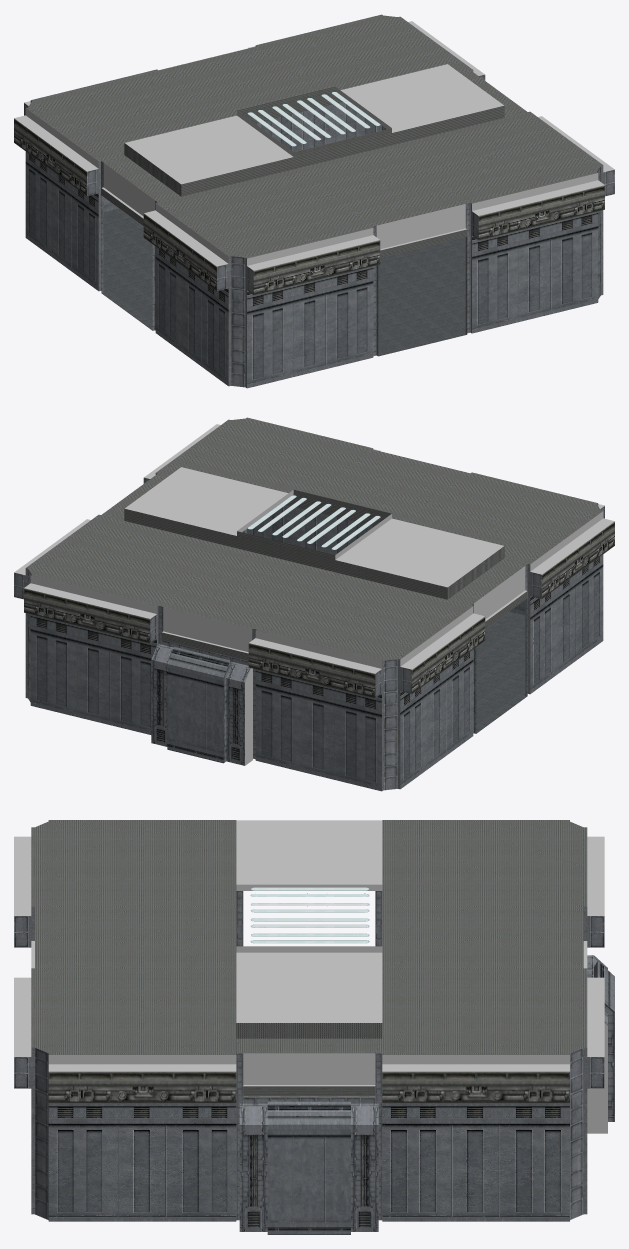
File: poi_all_impl_bunker_small_outpost_s01_r6_guard_room_mesh.fbx
The picture shows the model from 3 angles, top to bottom: view 1: azimuth 30°, elevation 25°; view 2: azimuth 150°, elevation 25°; view 3: azimuth 270°, elevation 25°; orthographic projection. The views are drawn at different scales.
Visible parts, largest first — view 1: mesh_node; view 2: mesh_node; view 3: mesh_node.
Boxes of the visible parts, x1,y1,x2,y2 form: mesh_node: (14,14,614,388); mesh_node: (14,417,614,791); mesh_node: (14,820,614,1234).
Size of the model in its own units: 17.4 by 6 by 17.3.
